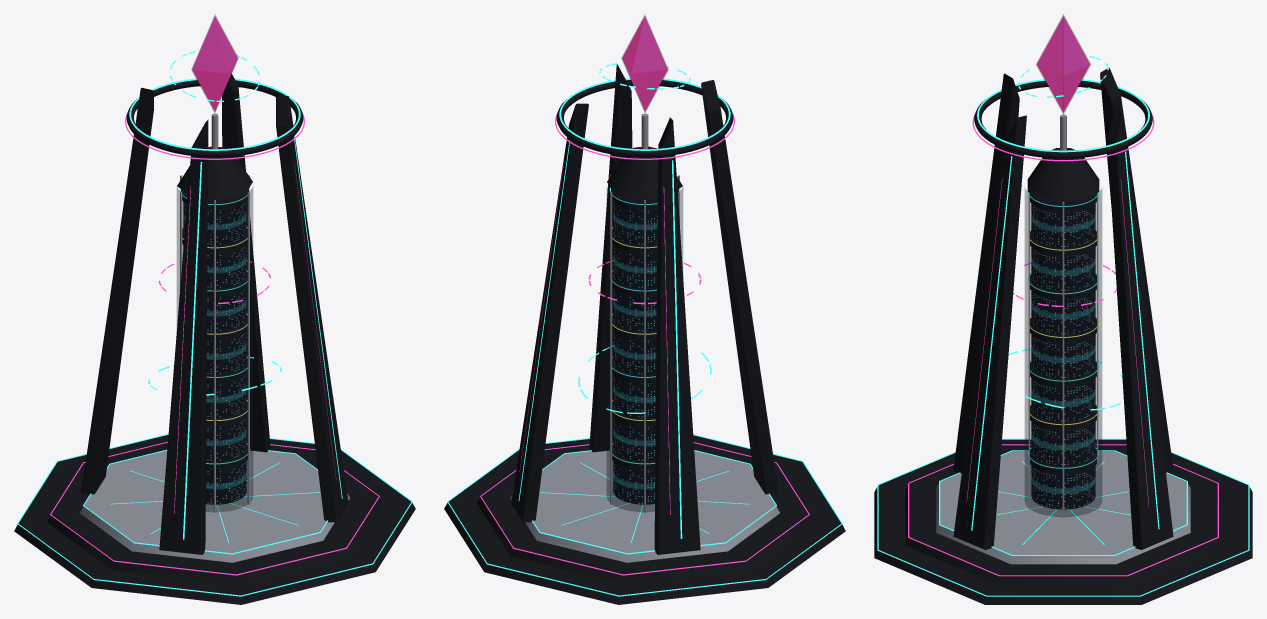
The model's file is landmark_archive.glb.
The picture shows the model from 3 angles, left to right: view 1: azimuth 30°, elevation 25°; view 2: azimuth 150°, elevation 25°; view 3: azimuth 270°, elevation 25°; orthographic projection.
Parts seen in each view (by area): view 1: panel_dark (×2), panel_grey, glass (×2), drum, neon, crystal, neon2; view 2: panel_dark (×2), panel_grey, glass (×2), drum, neon, crystal, neon2; view 3: panel_dark (×2), glass (×2), panel_grey, drum, neon, crystal, neon2.
Boxes of the visible parts, bbox=[...] form: panel_dark (×2): bbox=[14, 73, 415, 604]; panel_grey: bbox=[80, 113, 349, 562]; glass (×2): bbox=[177, 15, 252, 511]; drum: bbox=[183, 202, 246, 504]; neon: bbox=[17, 78, 412, 596]; crystal: bbox=[192, 17, 237, 110]; neon2: bbox=[50, 113, 379, 575]; panel_dark (×2): bbox=[444, 64, 845, 604]; panel_grey: bbox=[510, 113, 779, 562]; glass (×2): bbox=[607, 15, 682, 511]; drum: bbox=[613, 202, 657, 504]; neon: bbox=[447, 78, 842, 596]; crystal: bbox=[622, 17, 667, 110]; neon2: bbox=[480, 113, 809, 575]; panel_dark (×2): bbox=[874, 68, 1252, 604]; glass (×2): bbox=[1025, 14, 1101, 516]; panel_grey: bbox=[936, 114, 1190, 564]; drum: bbox=[1031, 204, 1095, 509]; neon: bbox=[877, 79, 1249, 596]; crystal: bbox=[1037, 16, 1089, 112]; neon2: bbox=[908, 114, 1218, 576].
Size of the model in its own units: 28.27 by 42.16 by 28.27.
Materials: 9 (1 with a texture image).
